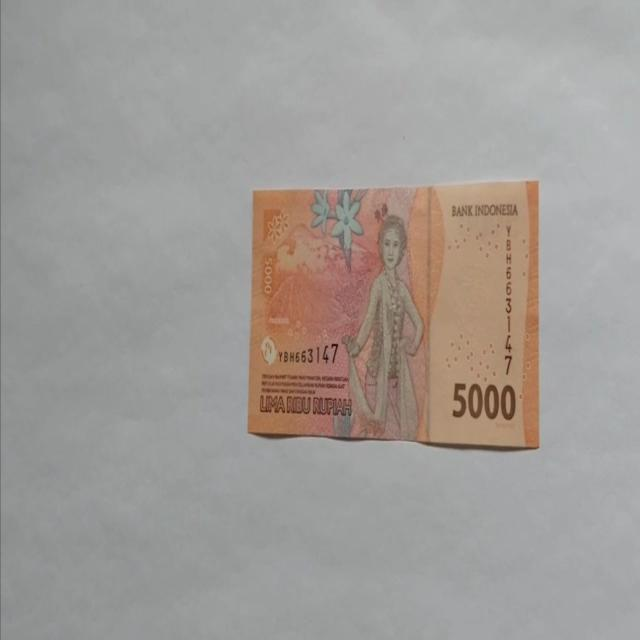lima ribu rupiah: (246, 179, 540, 449), (340, 213, 426, 440)
